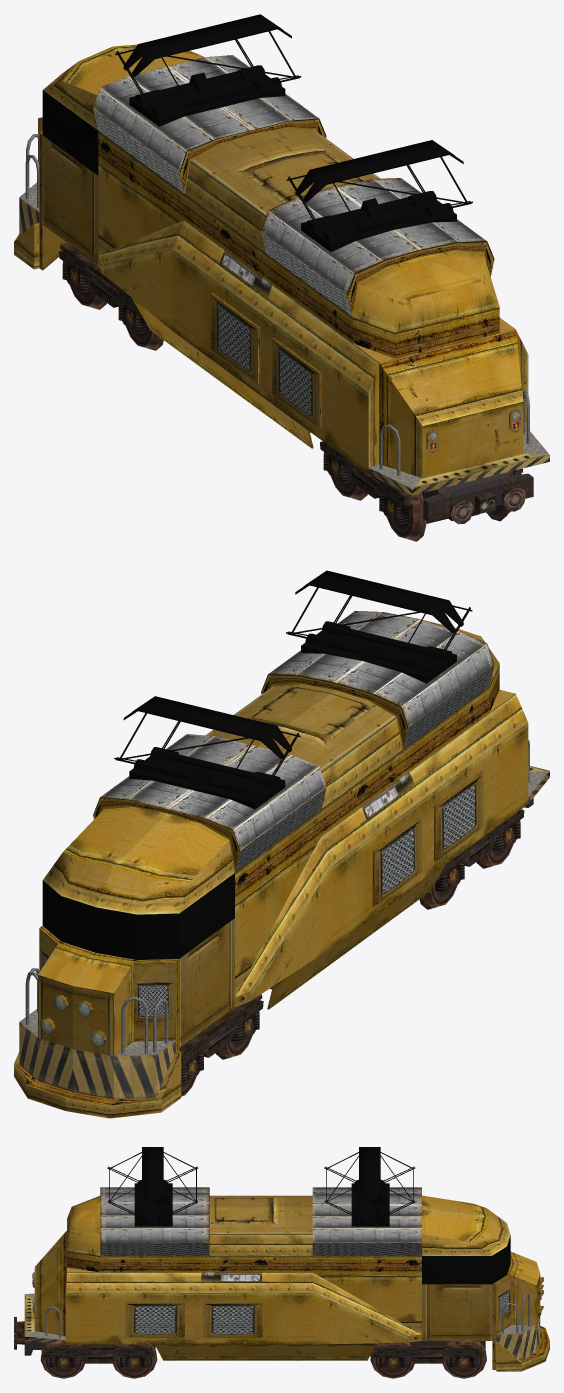
Rendered from Model_Trains_Locomotive_Transit.fbx.
3 views of the same model, one above another, from view 1: azimuth 30°, elevation 25°; view 2: azimuth 150°, elevation 25°; view 3: azimuth 270°, elevation 25° (orthographic). The views are drawn at different scales.
Parts seen in each view (by area): view 1: Train_Transport_LOD0; view 2: Train_Transport_LOD0; view 3: Train_Transport_LOD0.
Boxes of the visible parts, x1,y1,x2,y2 form: Train_Transport_LOD0: [14, 14, 549, 541]; Train_Transport_LOD0: [14, 570, 549, 1118]; Train_Transport_LOD0: [14, 1147, 549, 1378].
Size of what is drawn, in the model's own units: 257 by 474 by 1152.
